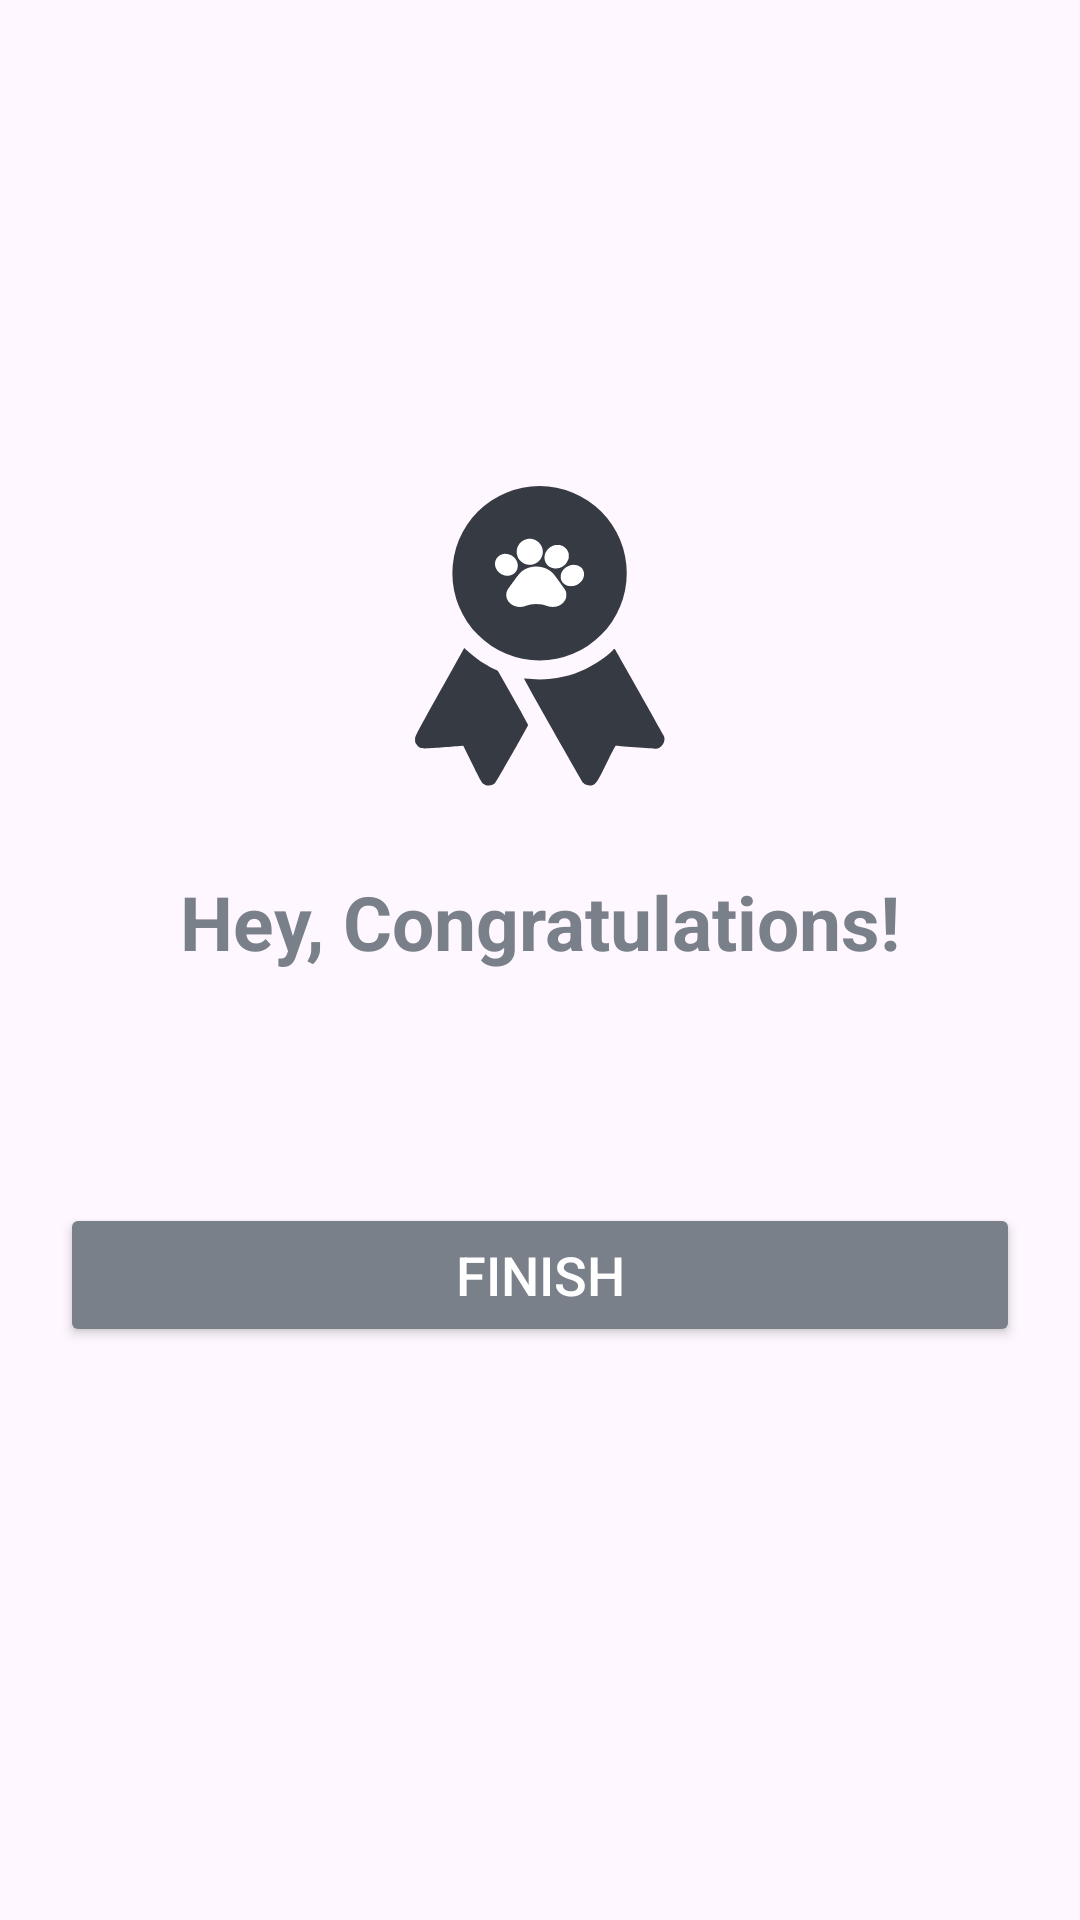

Icons on this 1080px×1920px Android screen, each with the point to tap as (x=x, y=y):
badge: (x=540, y=636)
